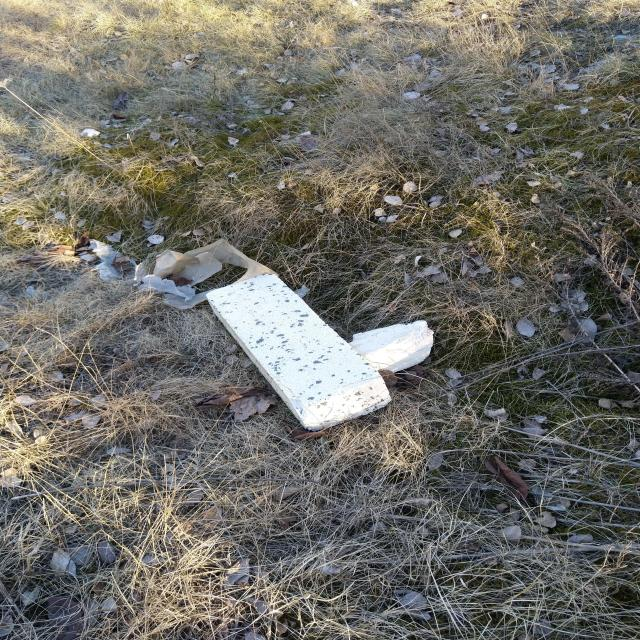litter: (88, 238, 280, 310)
